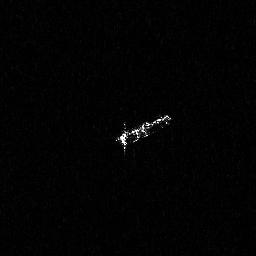ship: (111, 113, 174, 158)
